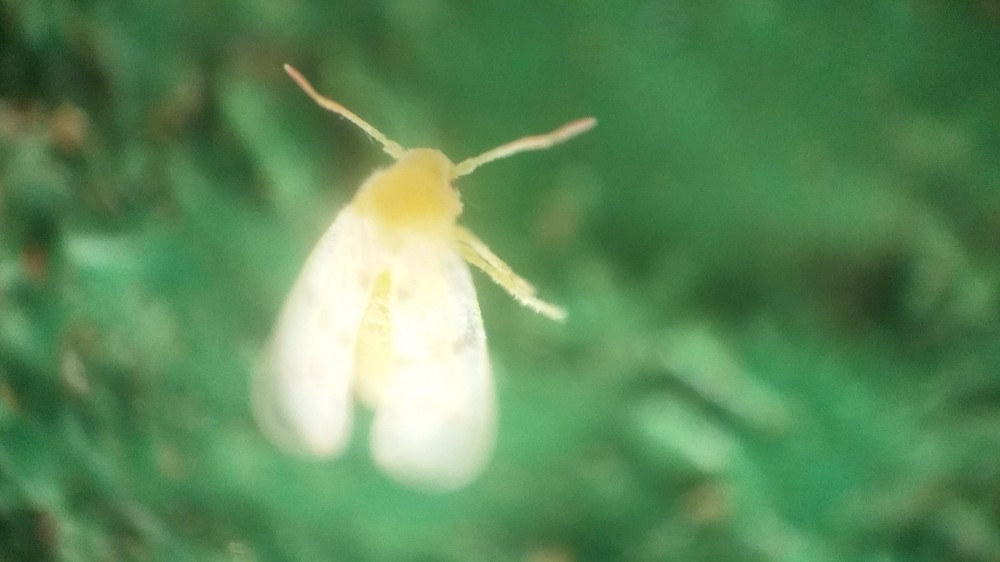Mosca Blanca: (236, 50, 622, 515)
